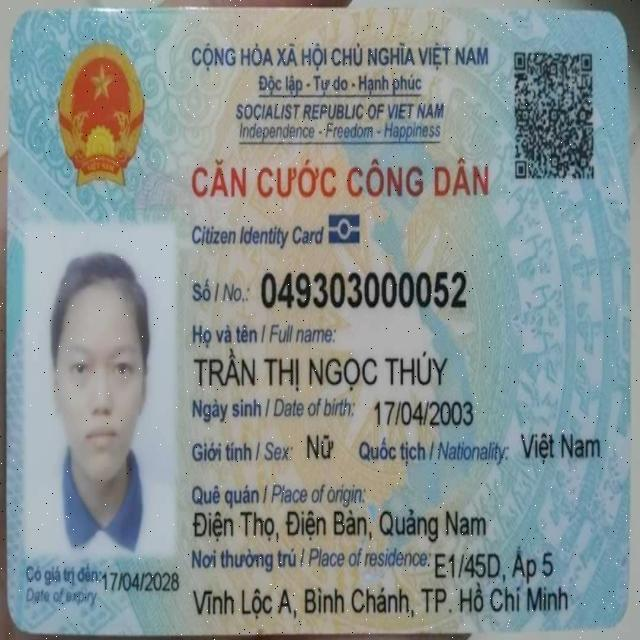current_place: (191, 581, 570, 624), (432, 542, 555, 585)
dob: (372, 395, 476, 430)
expire_date: (100, 567, 182, 596)
gender: (303, 428, 336, 464)
id: (258, 265, 470, 316)
name: (192, 345, 450, 394)
nationality: (519, 429, 603, 466)
origin_place: (189, 506, 488, 545)
qr: (511, 42, 601, 190)
